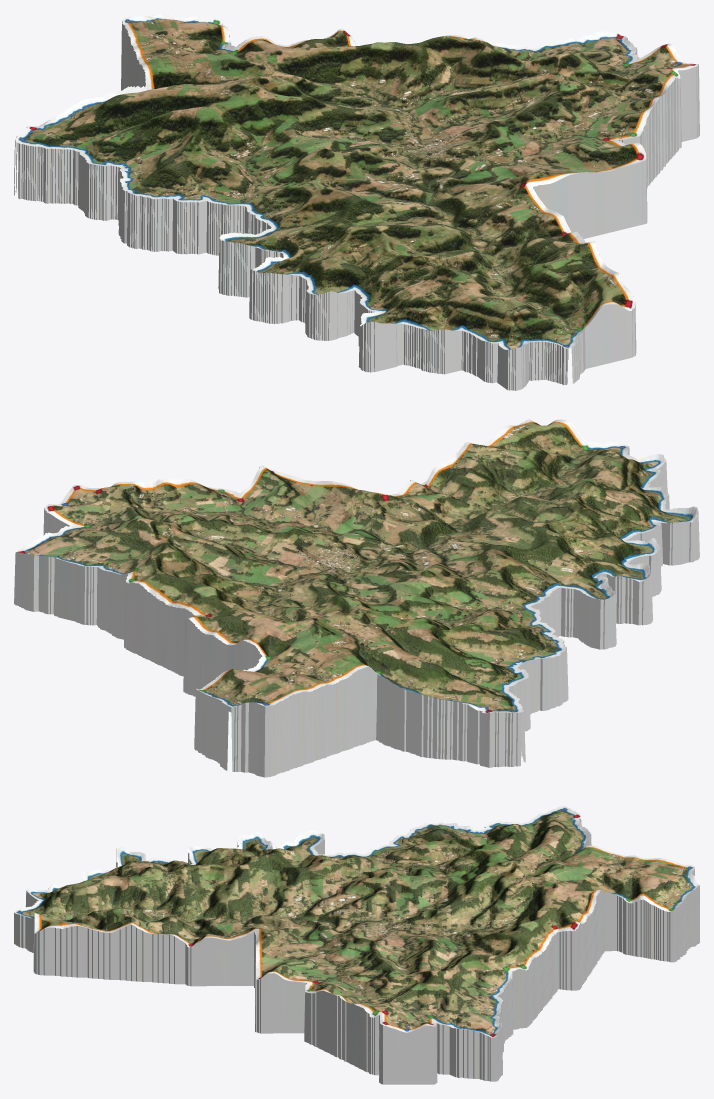
3 renders of one model, top to bottom at view 1: azimuth 30°, elevation 25°; view 2: azimuth 150°, elevation 25°; view 3: azimuth 270°, elevation 25°, orthographic. The views are drawn at different scales.
Bounding box in the file's own units: 1 × 0.145 × 1.25.
1 material, 1 textured.
